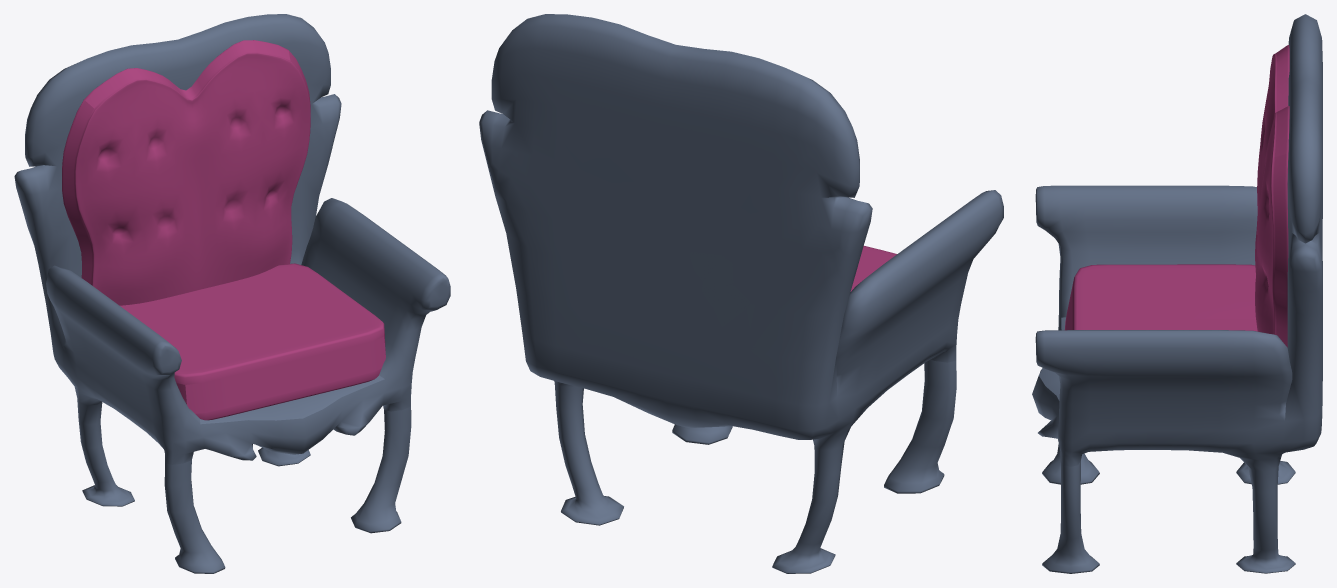
File: Chairfbx.fbx
3 renders of one model, left to right at view 1: azimuth 30°, elevation 25°; view 2: azimuth 150°, elevation 25°; view 3: azimuth 270°, elevation 25°, orthographic. The views are drawn at different scales.
Parts seen in each view (by area): view 1: Chair; view 2: Chair; view 3: Chair.
Part boxes in pixels (x1=…): Chair: x1=14, y1=14, x2=450, y2=573; Chair: x1=479, y1=14, x2=1003, y2=573; Chair: x1=1032, y1=14, x2=1322, y2=573.
Bounding box in the file's own units: 258 × 329 × 189.
